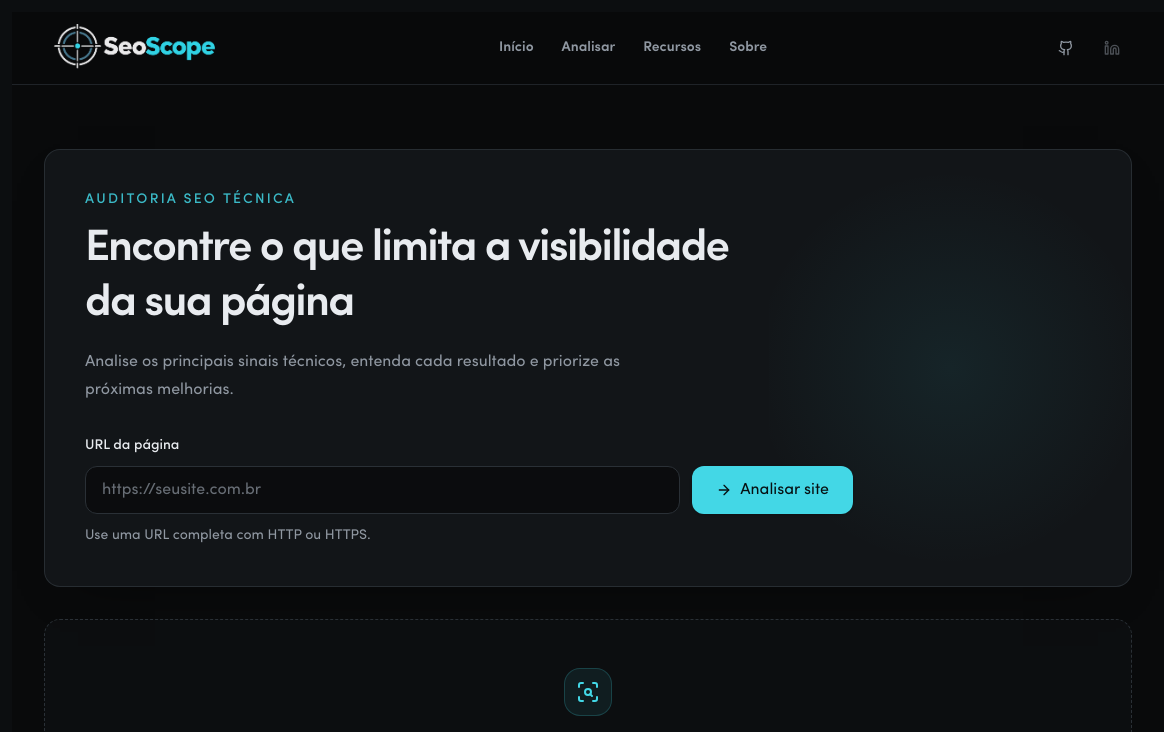
Home › valida protocolos diferentes de HTTP e HTTPS
The image size is (1164, 732).
Type "ftp://example.com" into the field labelled "URL da página" at (383, 490), box 85,466 -> 680,514
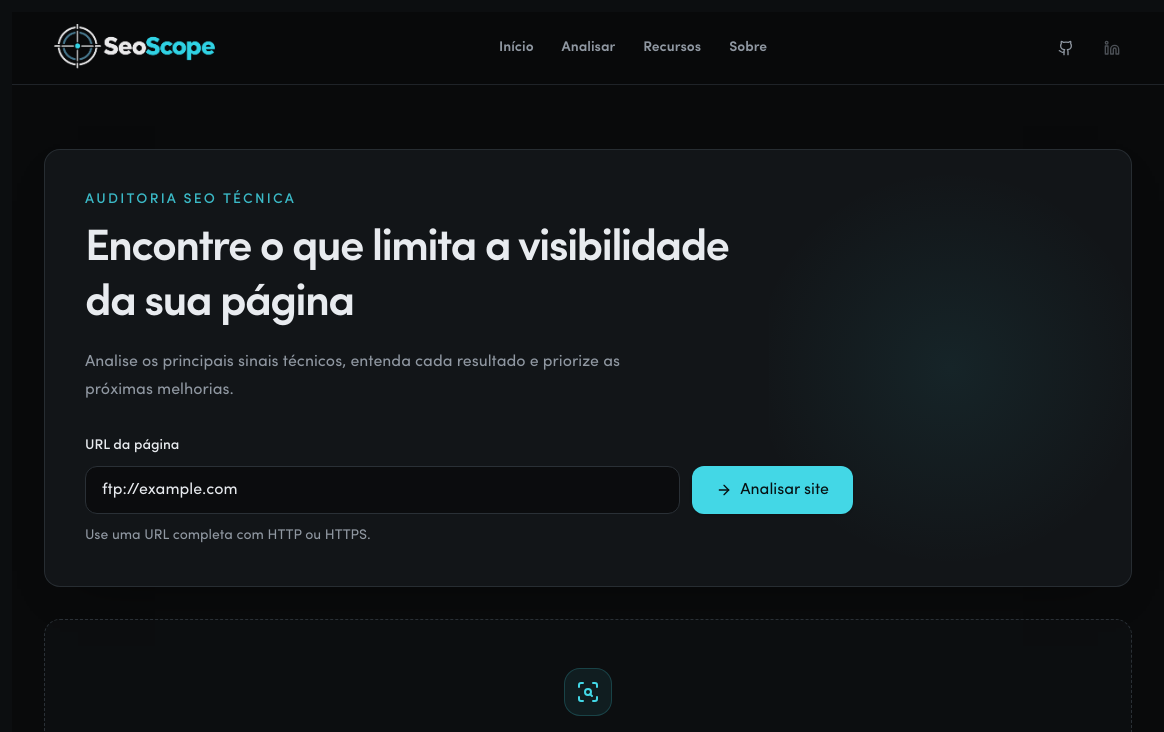
Click the button "Analisar site" at (773, 490), box 692,466 -> 853,514
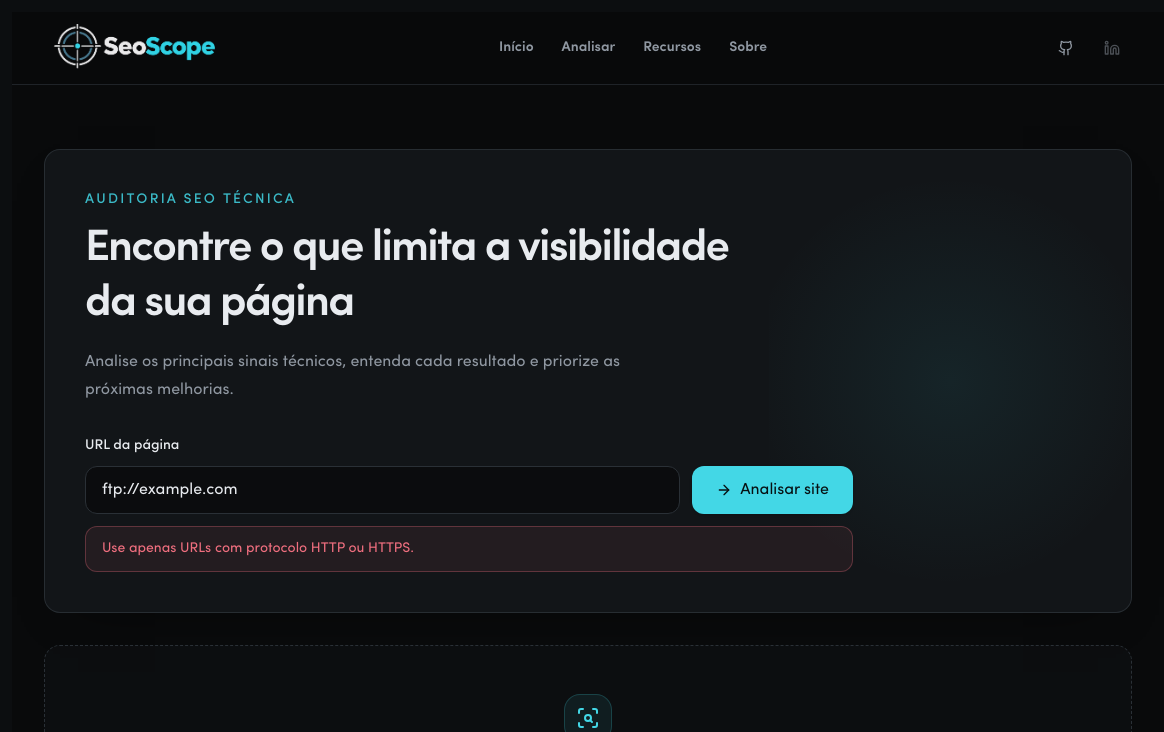
Now the message reads "Use apenas URLs com protocolo HTTP ou HTTPS.", box 102,541 -> 414,556
